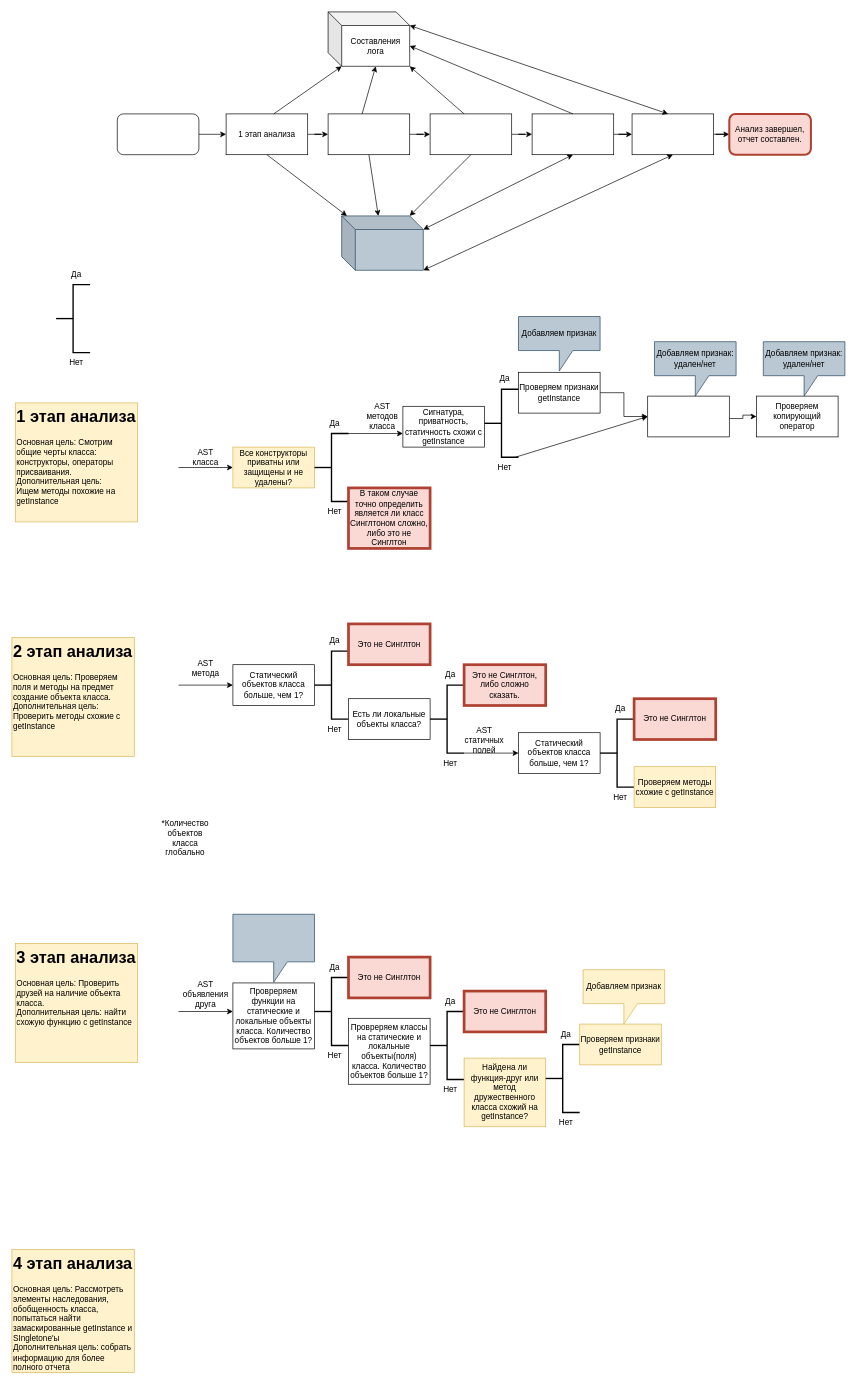
Some shapes in this 857 by 1387 pixel diagram are drawn without their labels. Each missing label, with the box of its shape:
2 этап анализа: (327, 113, 410, 155)
3 этап анализа: (429, 113, 512, 155)
4 этап анализа: (531, 113, 614, 155)
5 этап анализа: (631, 113, 714, 155)
Добавляем признак: если находим похожую функцию на getInstance: (232, 914, 314, 982)
Исходный AST: (117, 113, 199, 155)
Проверяем копирующий конструктор: (647, 395, 729, 437)
Список признаков синглтона: (341, 215, 423, 270)
